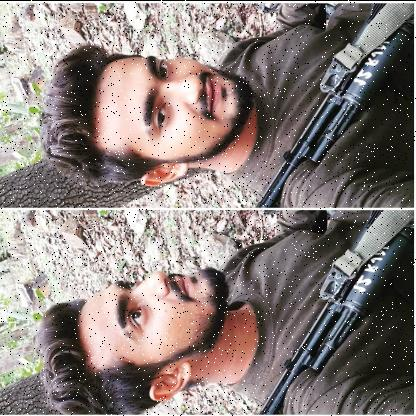rifle: (259, 209, 414, 414), (259, 3, 414, 206)
